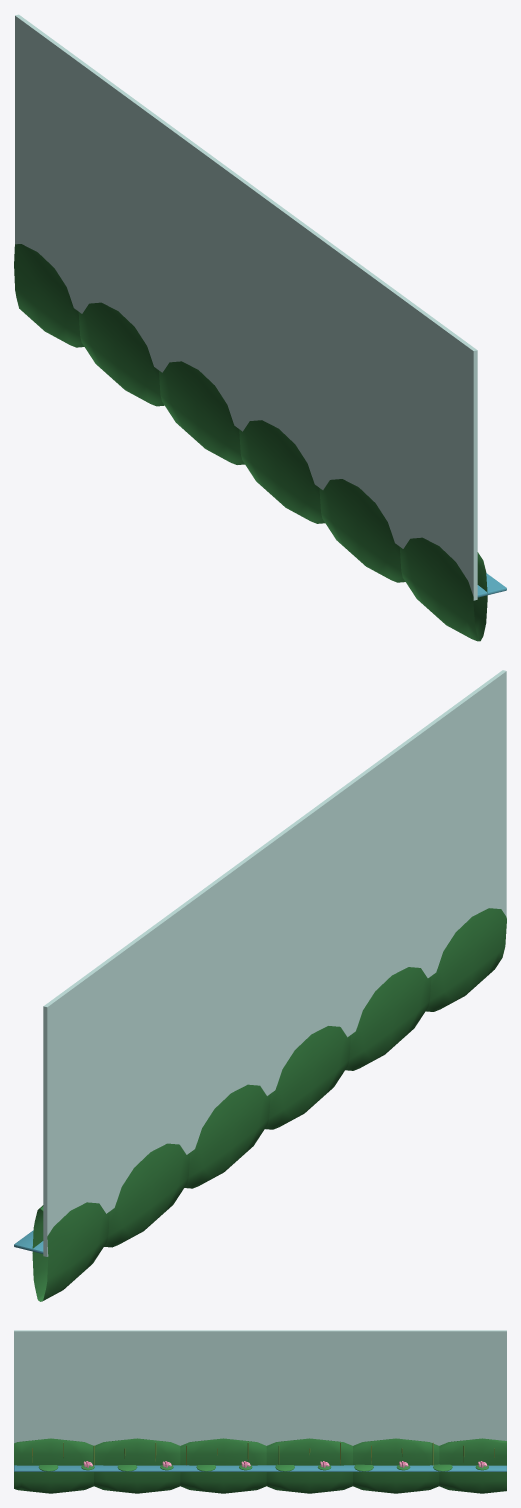
File: BackdropGarden.fbx
3 renders of one model, top to bottom at view 1: azimuth 30°, elevation 25°; view 2: azimuth 150°, elevation 25°; view 3: azimuth 270°, elevation 25°, orthographic. The views are drawn at different scales.
Parts seen in each view (by area): view 1: BackdropGarden; view 2: BackdropGarden; view 3: BackdropGarden.
Boxes of the visible parts, left/top/right/bottom form: BackdropGarden: left=14, top=14, right=506, bottom=641; BackdropGarden: left=14, top=670, right=506, bottom=1301; BackdropGarden: left=14, top=1330, right=506, bottom=1493.
Bounding box in the file's own units: 398 × 2895 × 8000.
